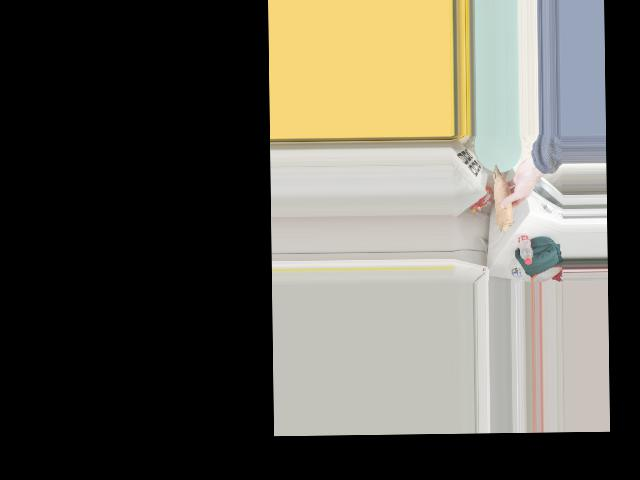sweet_potato: (495, 168, 515, 235)
